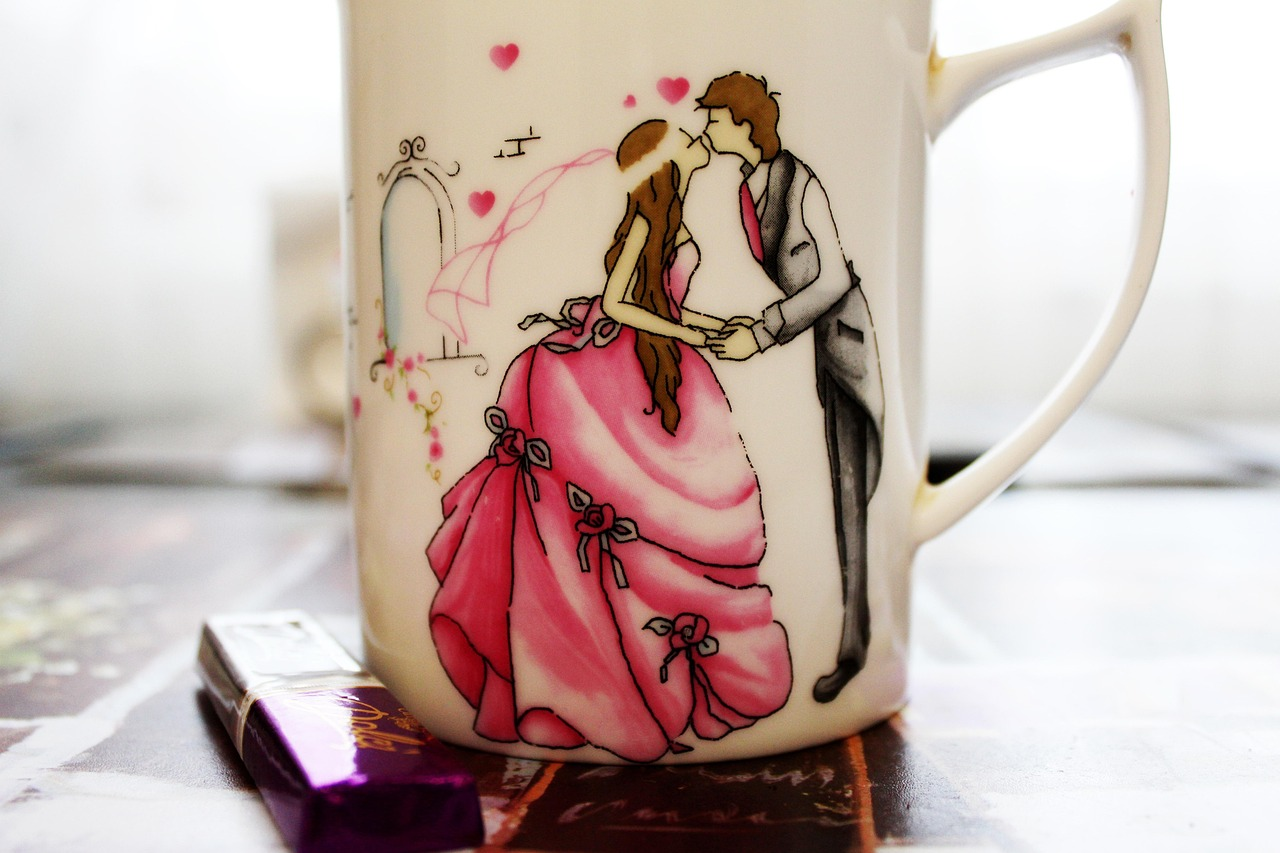mug: (189, 1, 1185, 804)
